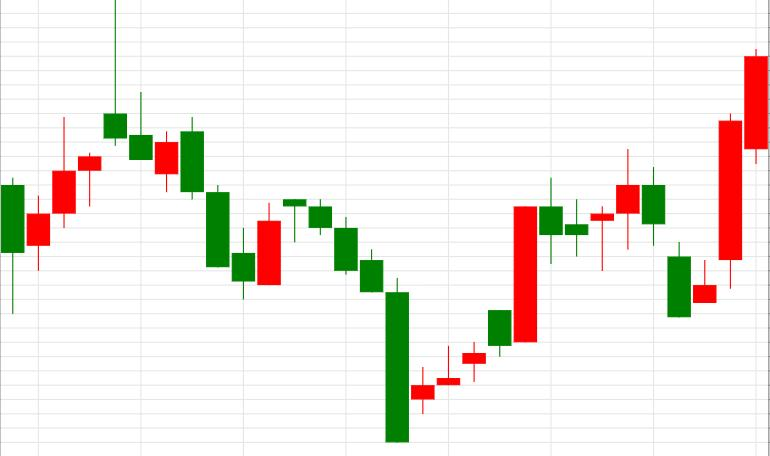shooting_star_fall: (0, 1, 126, 314)
